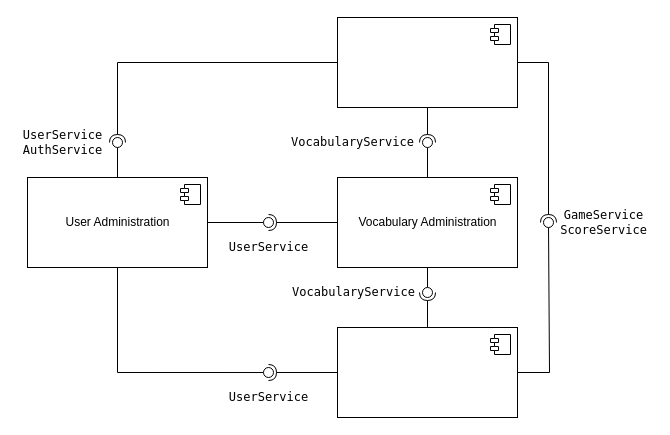
This 670x435 diagram has some shape labels left out. Each missing label, with the box of its shape:
Game Administration: (336, 326, 518, 418)
Vocabduel Webfrontend: (336, 16, 518, 108)
